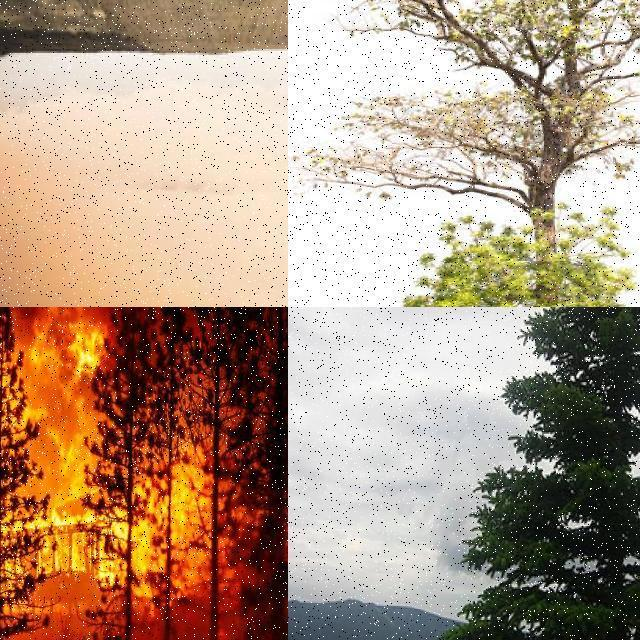tree: (308, 1, 640, 308), (420, 307, 639, 640), (187, 307, 288, 640), (77, 307, 163, 640), (0, 307, 66, 640), (145, 307, 209, 640), (0, 307, 46, 640), (0, 492, 54, 640)
